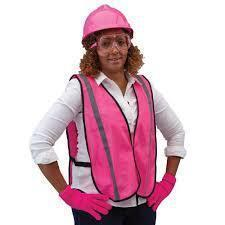helmet: (81, 3, 134, 40)
